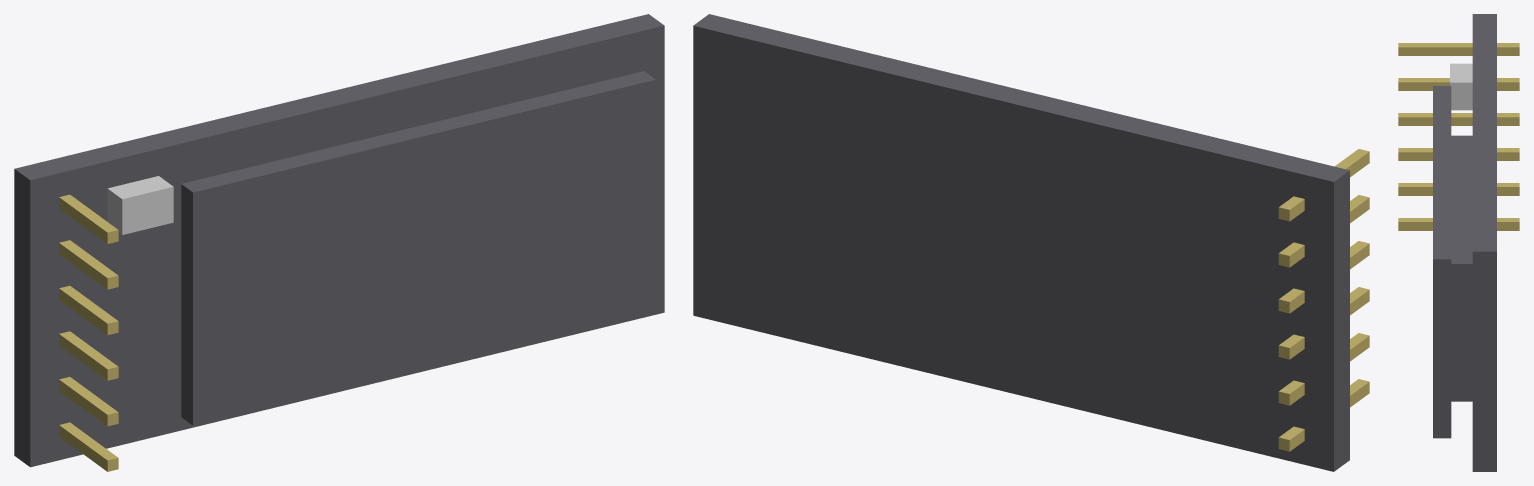
3 renders of one model, left to right at view 1: azimuth 30°, elevation 25°; view 2: azimuth 150°, elevation 25°; view 3: azimuth 270°, elevation 25°, orthographic. The views are drawn at different scales.
Parts seen in each view (by area): view 1: extra, pins, housing; view 2: extra, pins; view 3: extra, pins, housing.
Boxes of the visible parts, x1=… form: extra: x1=14, y1=14, x2=664, y2=467; pins: x1=59, y1=194, x2=118, y2=471; housing: x1=107, y1=176, x2=173, y2=234; extra: x1=693, y1=14, x2=1349, y2=471; pins: x1=1278, y1=149, x2=1369, y2=451; extra: x1=1433, y1=14, x2=1496, y2=471; pins: x1=1398, y1=43, x2=1519, y2=230; housing: x1=1450, y1=63, x2=1472, y2=110.
Size of the model in its own units: 37 by 16 by 8.
